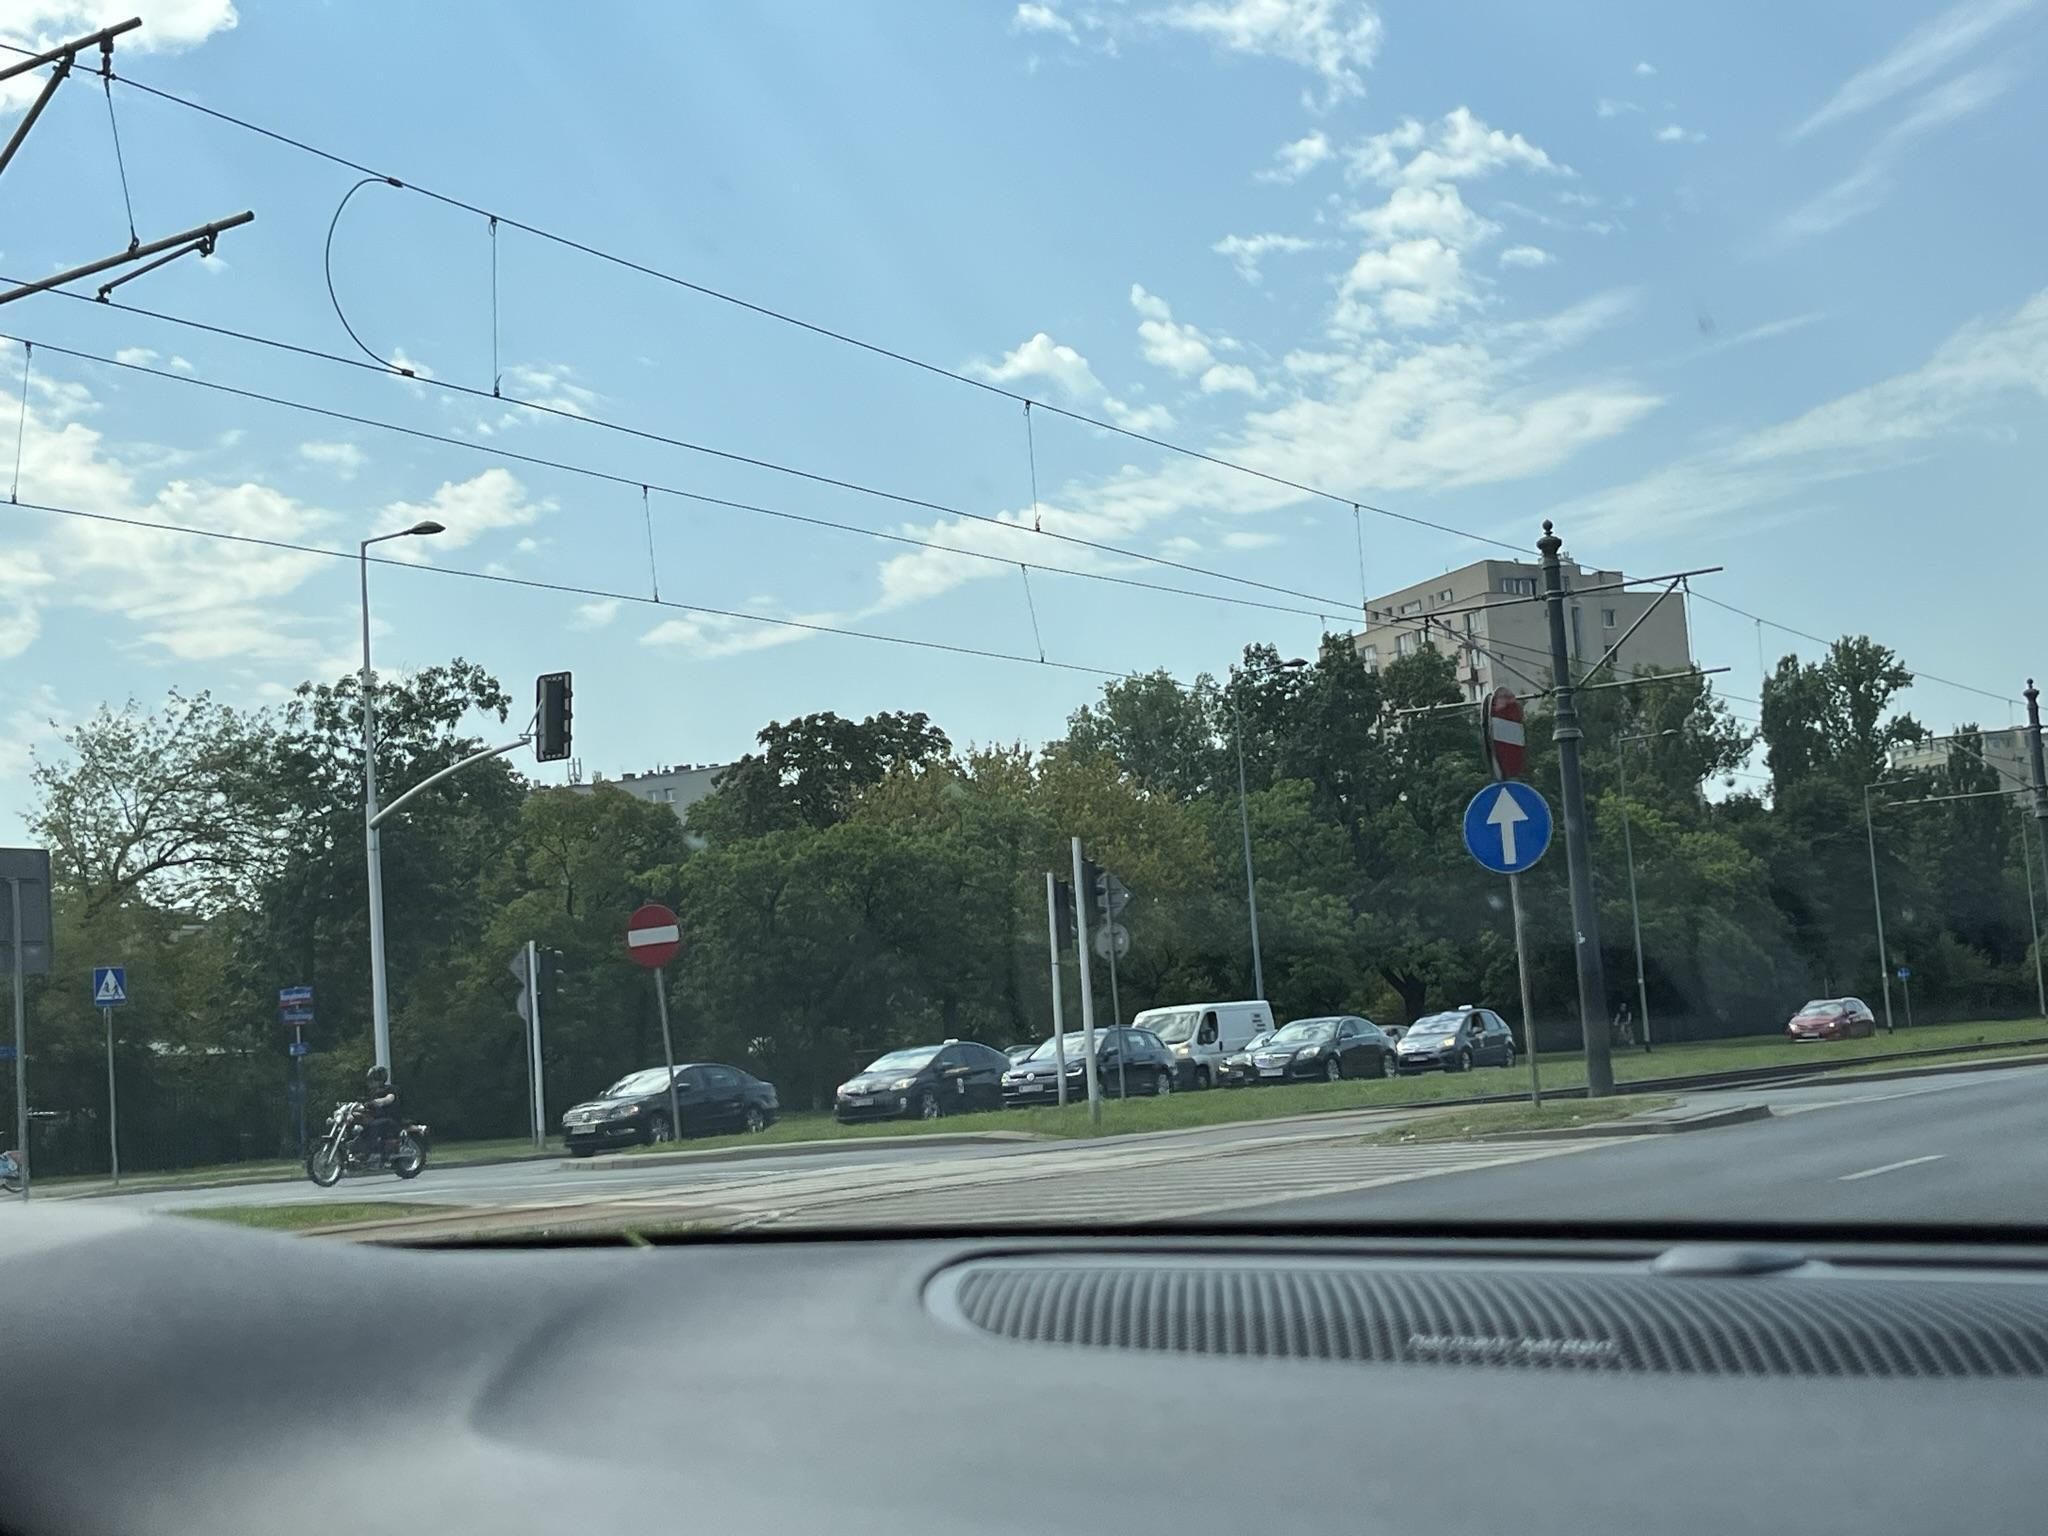information: (1461, 781, 1556, 876), (94, 968, 126, 1005)
prohibitory: (624, 904, 682, 970), (1487, 684, 1527, 779)
